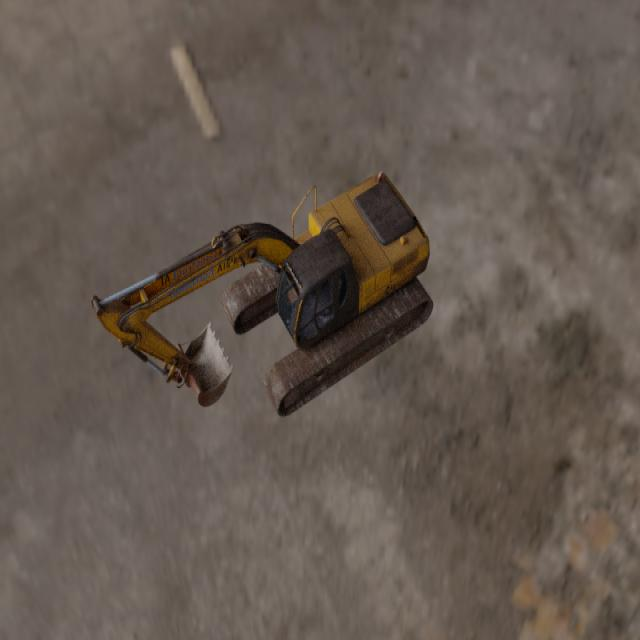excavator: (89, 170, 434, 418)
